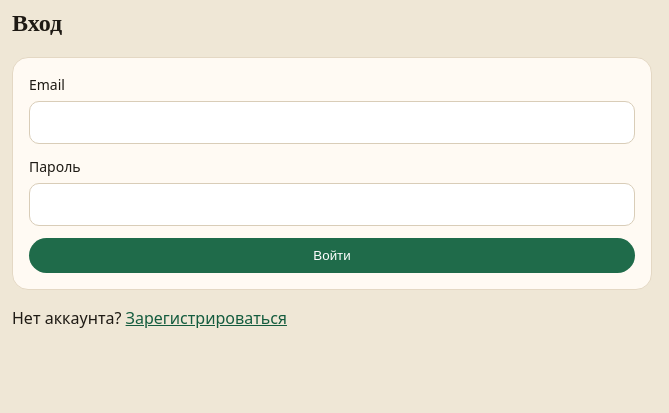
Test case: форма входа › показывает ошибку и не отправляет пустую форму
Click the button "Войти" at (332, 256), box [29,238,635,273]
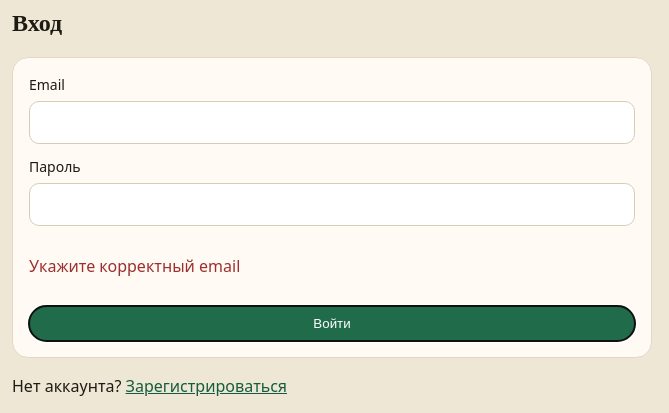
Now the message shows "email", box [29,255,240,277]
